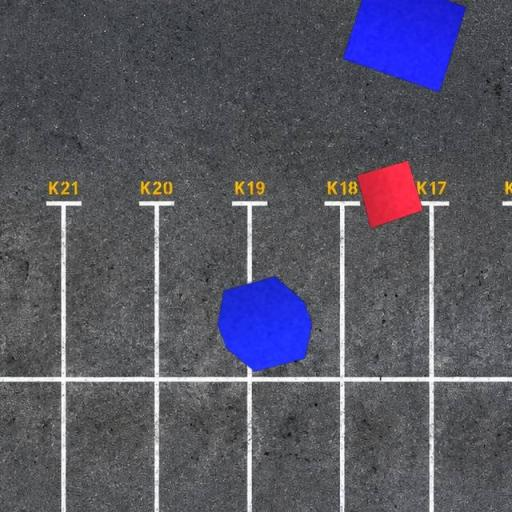BLUE_SQUARE: (342, 0, 467, 93)
RED_SQUARE: (356, 160, 424, 230)
